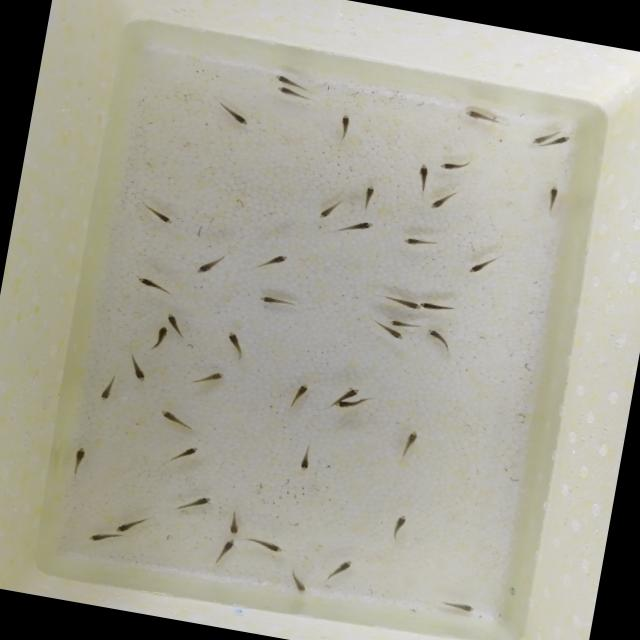fingerling: (192, 247, 230, 281), (247, 534, 290, 560), (140, 202, 182, 228), (168, 438, 204, 468), (153, 407, 195, 431), (254, 290, 302, 310), (221, 328, 250, 361), (216, 104, 254, 128), (428, 187, 458, 216), (254, 250, 290, 274), (399, 232, 442, 252), (464, 254, 498, 279), (327, 554, 357, 581), (345, 212, 376, 238), (286, 378, 312, 409), (313, 196, 340, 225), (441, 596, 477, 616), (114, 516, 146, 538), (400, 426, 418, 465), (127, 358, 152, 386), (182, 491, 215, 512), (436, 156, 474, 174), (414, 162, 435, 194), (425, 328, 453, 352), (464, 109, 499, 128), (164, 310, 187, 338), (390, 510, 410, 542), (70, 444, 90, 476), (194, 368, 225, 388), (96, 376, 118, 404), (294, 445, 316, 473), (218, 536, 240, 564), (139, 278, 172, 296), (284, 572, 308, 596), (336, 114, 356, 140), (271, 85, 304, 100), (385, 296, 420, 310), (376, 327, 406, 343), (226, 512, 243, 538), (545, 181, 560, 210), (82, 531, 112, 545), (419, 300, 452, 312), (274, 74, 306, 86), (552, 132, 575, 148), (360, 184, 374, 210), (333, 398, 359, 412), (152, 322, 169, 343), (529, 127, 548, 145), (340, 385, 364, 399), (392, 321, 421, 330)
